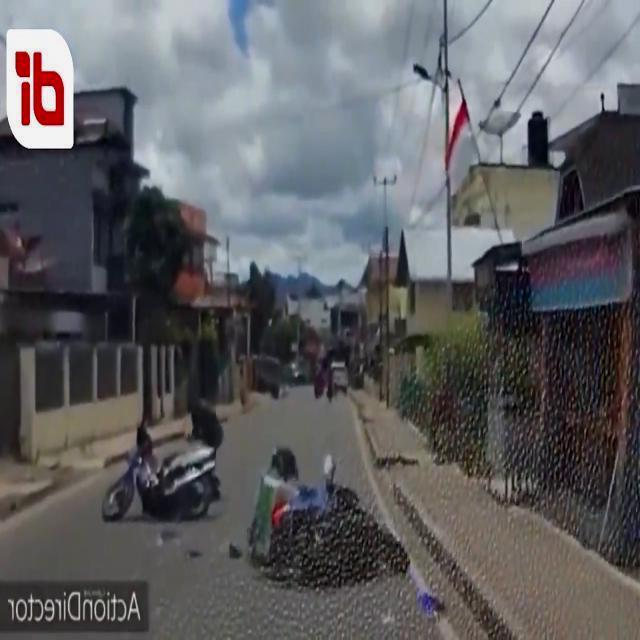accident: (100, 391, 448, 613), (310, 362, 350, 403)
